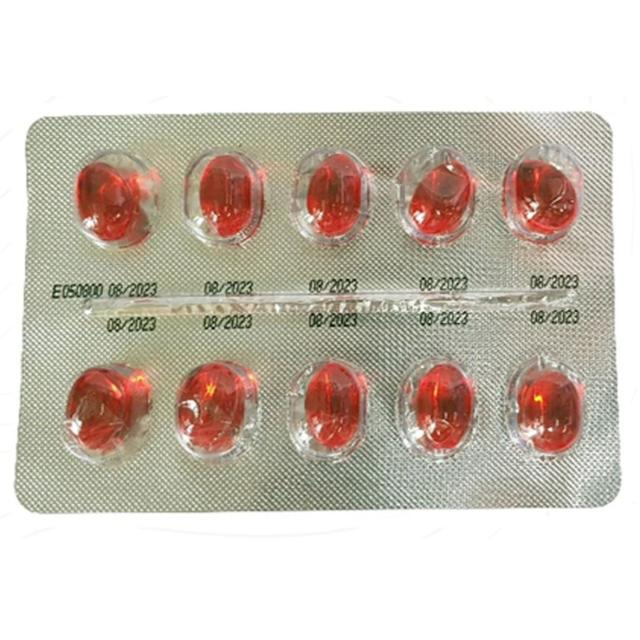blister: (12, 110, 626, 520)
